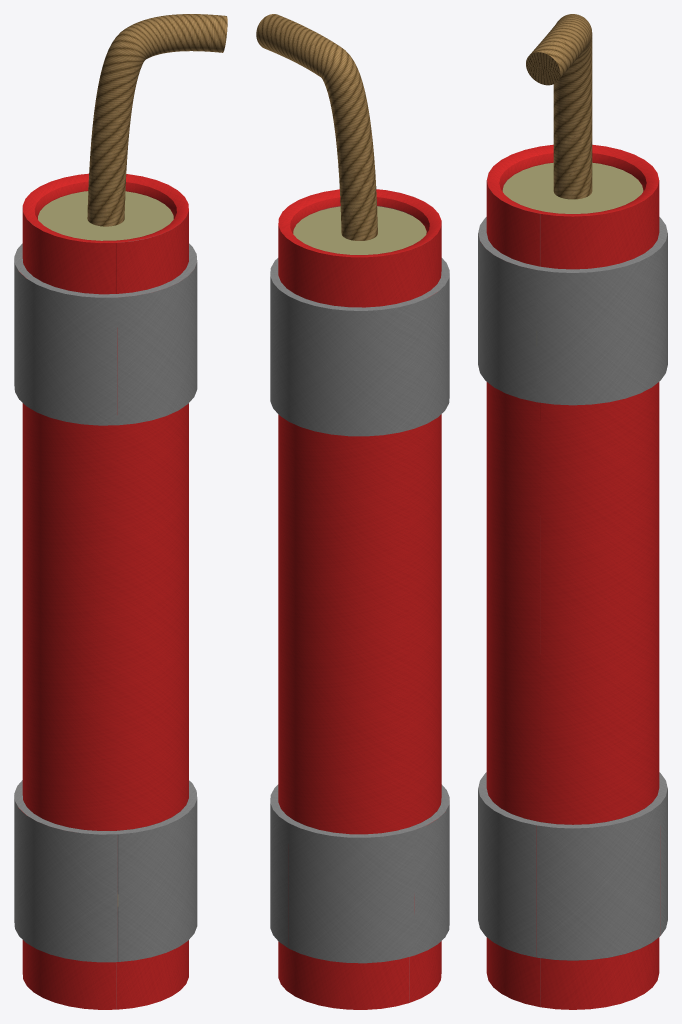
Rendered from Dynamite.obj.
The picture shows the model from 3 angles, left to right: view 1: azimuth 30°, elevation 25°; view 2: azimuth 150°, elevation 25°; view 3: azimuth 270°, elevation 25°; orthographic projection. The views are drawn at different scales.
Parts seen in each view (by area): view 1: Cylinder; view 2: Cylinder; view 3: Cylinder.
Boxes of the visible parts, <box> form: Cylinder: <box>14,14,227,1009</box>; Cylinder: <box>256,14,449,1009</box>; Cylinder: <box>478,14,667,1009</box>.
Size of the model in its own units: 0.885 by 4.18 by 0.7344.
